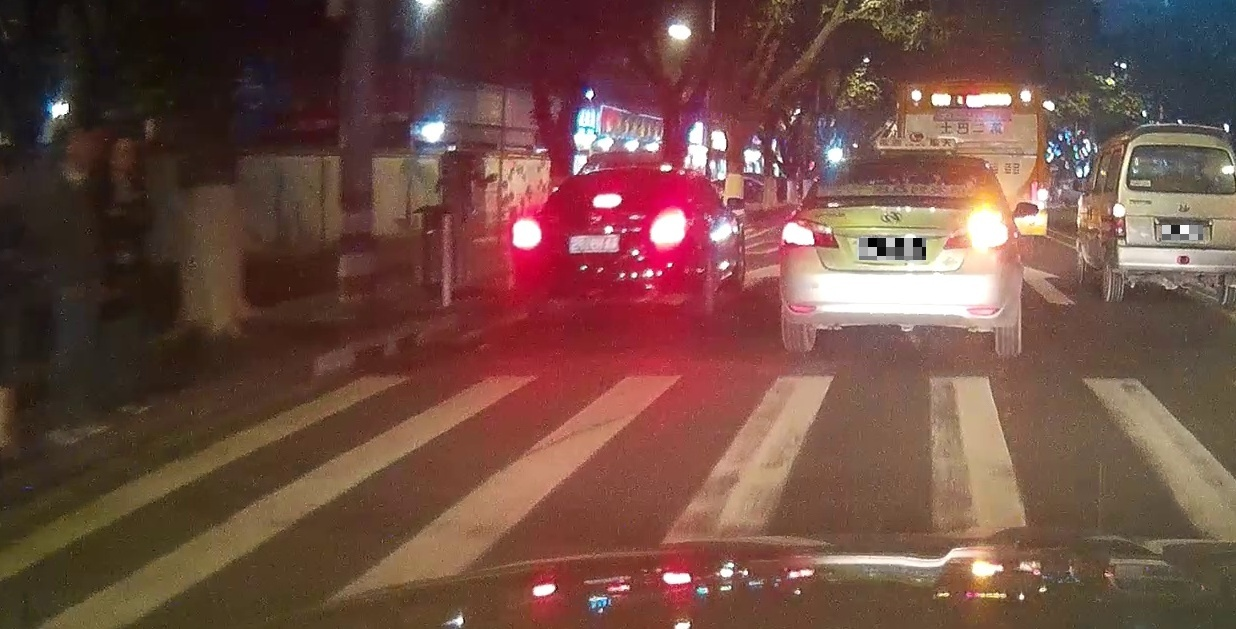L_light: (781, 220, 840, 248), (511, 219, 542, 250)
R_light: (943, 214, 1012, 250), (649, 207, 688, 250)
T_light: (593, 193, 623, 209), (891, 158, 923, 166)
night-brake: (510, 164, 706, 312)
night-right: (780, 153, 1013, 354)
plate_1: (859, 238, 926, 260)
plate_2: (1162, 225, 1203, 240)
